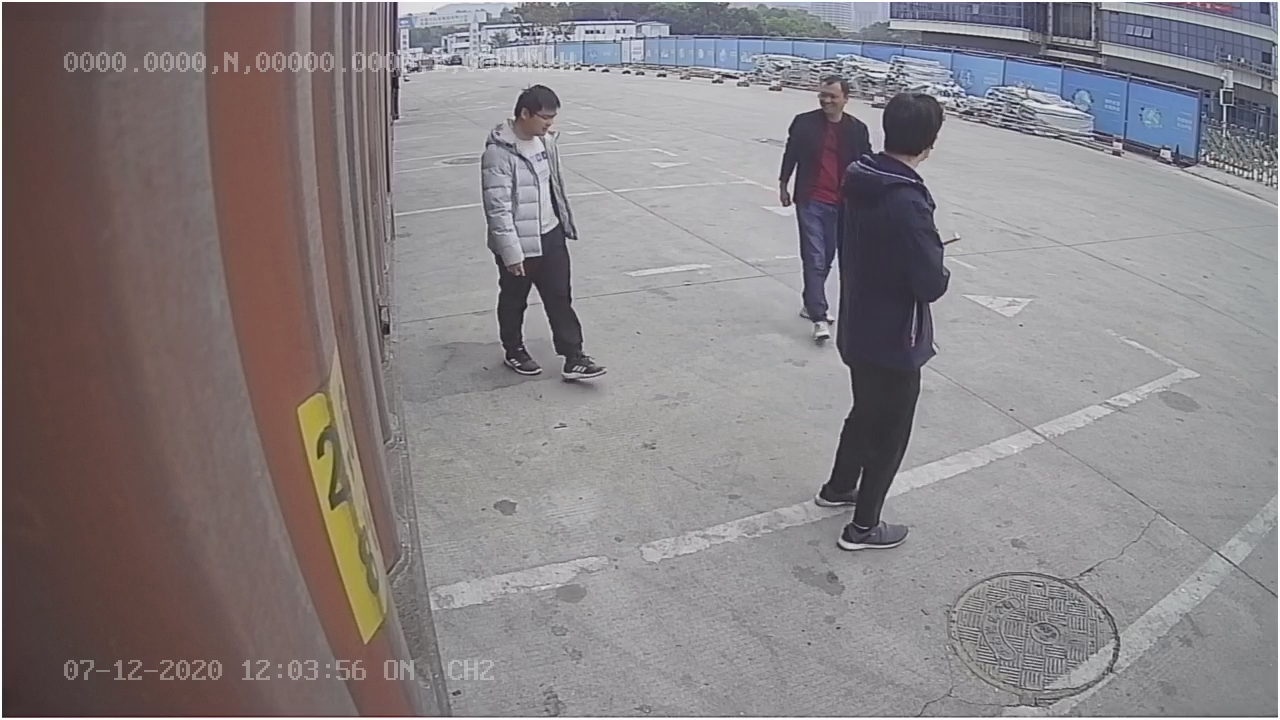person: (474, 82, 608, 385)
